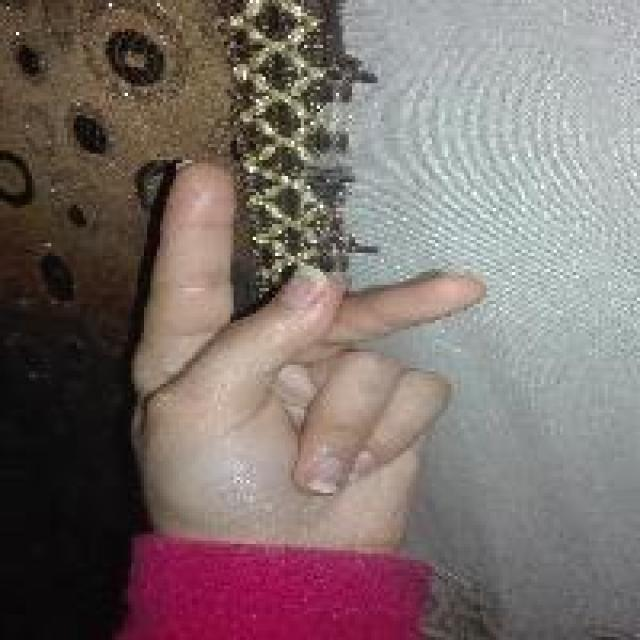K: (118, 152, 496, 526)
